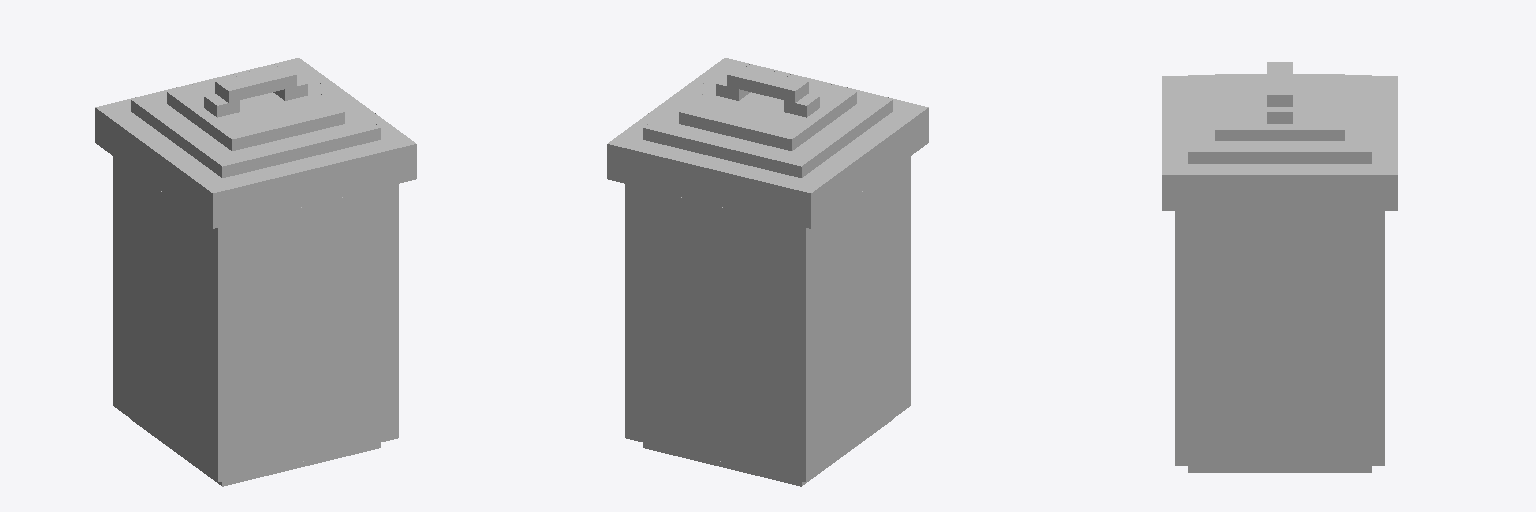
File: trash_can.obj
The picture shows the model from 3 angles: view 1: azimuth 30°, elevation 25°; view 2: azimuth 150°, elevation 25°; view 3: azimuth 270°, elevation 25°; orthographic projection.
Parts seen in each view (by area): view 1: trash can; view 2: trash can; view 3: trash can.
Part boxes in pixels (left/top/right/bottom): trash can: left=95, top=58, right=416, bottom=486; trash can: left=607, top=58, right=928, bottom=486; trash can: left=1162, top=62, right=1397, bottom=472.
Size of the model in its own units: 18 by 30 by 18.